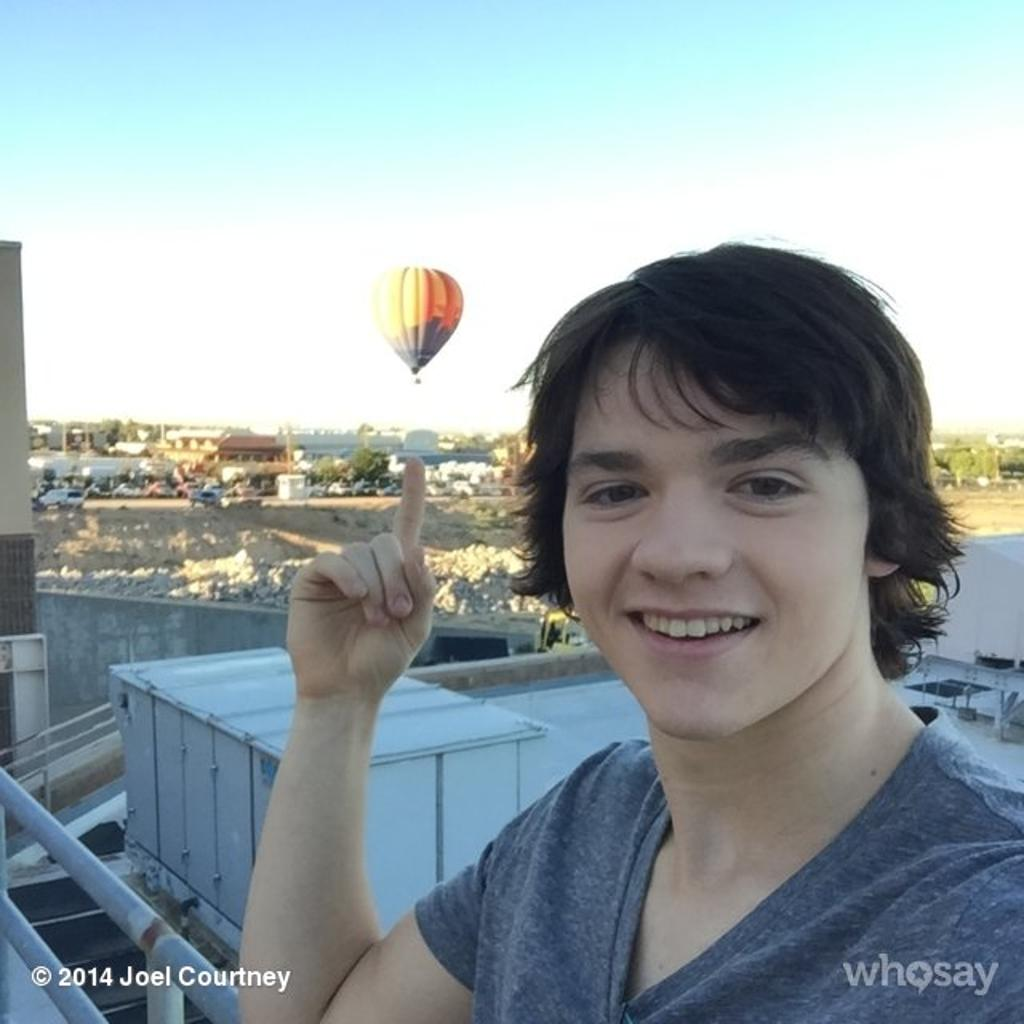face: (562, 338, 866, 736)
